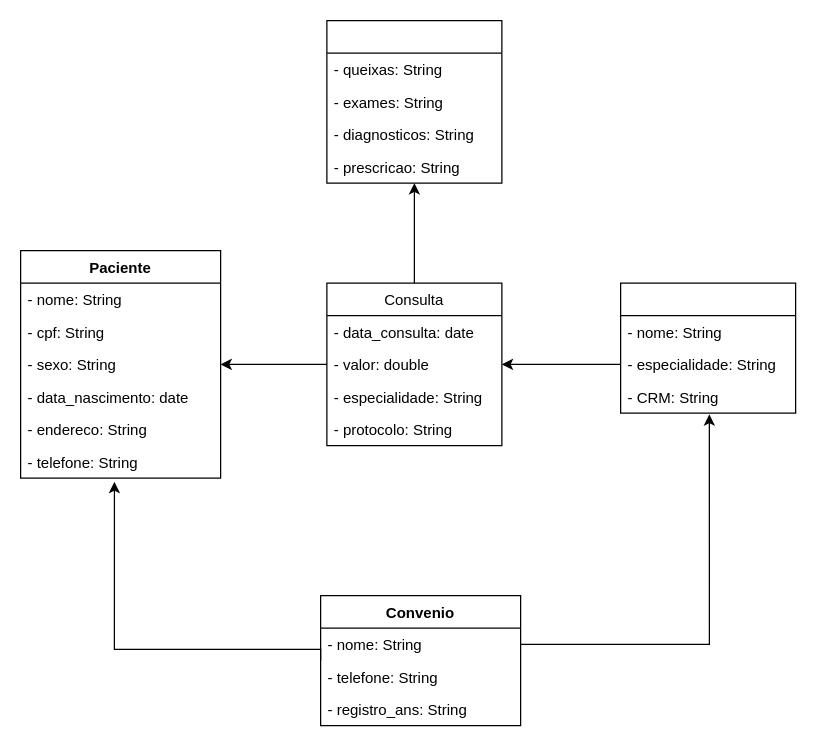
Image size: 816x746. Some labels were removed from this diagram. Each missing label, with the box of its shape:
Ficha: (326, 19, 502, 183)
Médico: (619, 282, 796, 413)
